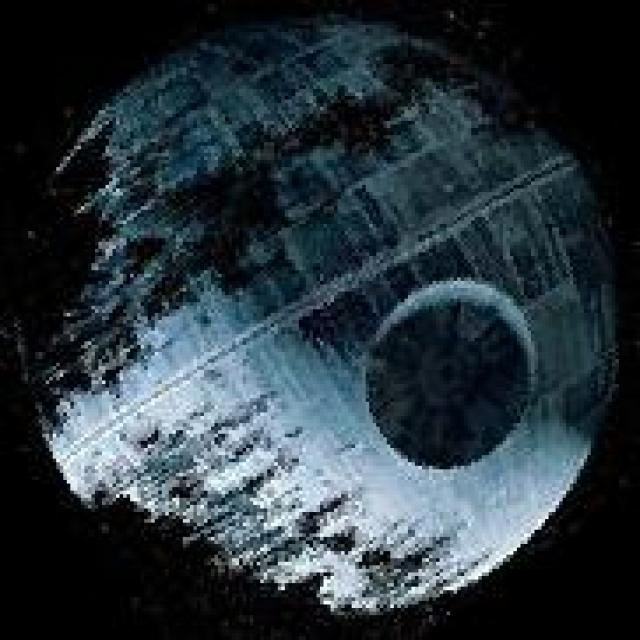Death Star: (25, 0, 630, 622)
